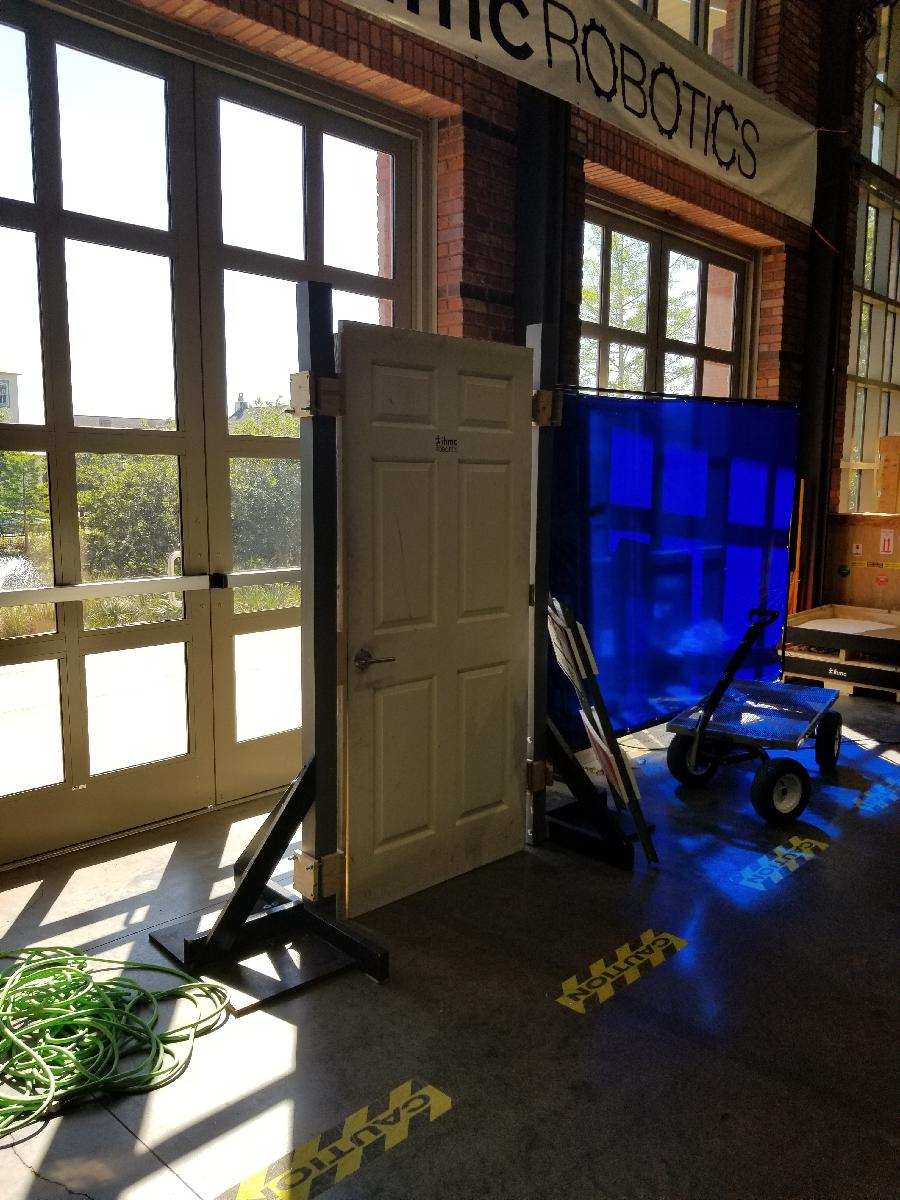door: (332, 317, 542, 928)
doorHandle: (346, 645, 403, 676)
